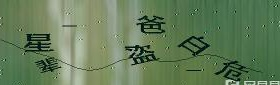chinese: (122, 42, 161, 71), (211, 57, 251, 81), (129, 43, 171, 65), (177, 30, 210, 56), (134, 14, 166, 39), (25, 28, 54, 52), (35, 57, 65, 78)
